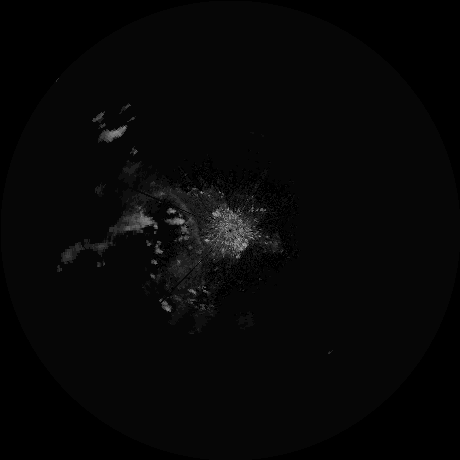frontgust: (176, 193, 205, 248)
